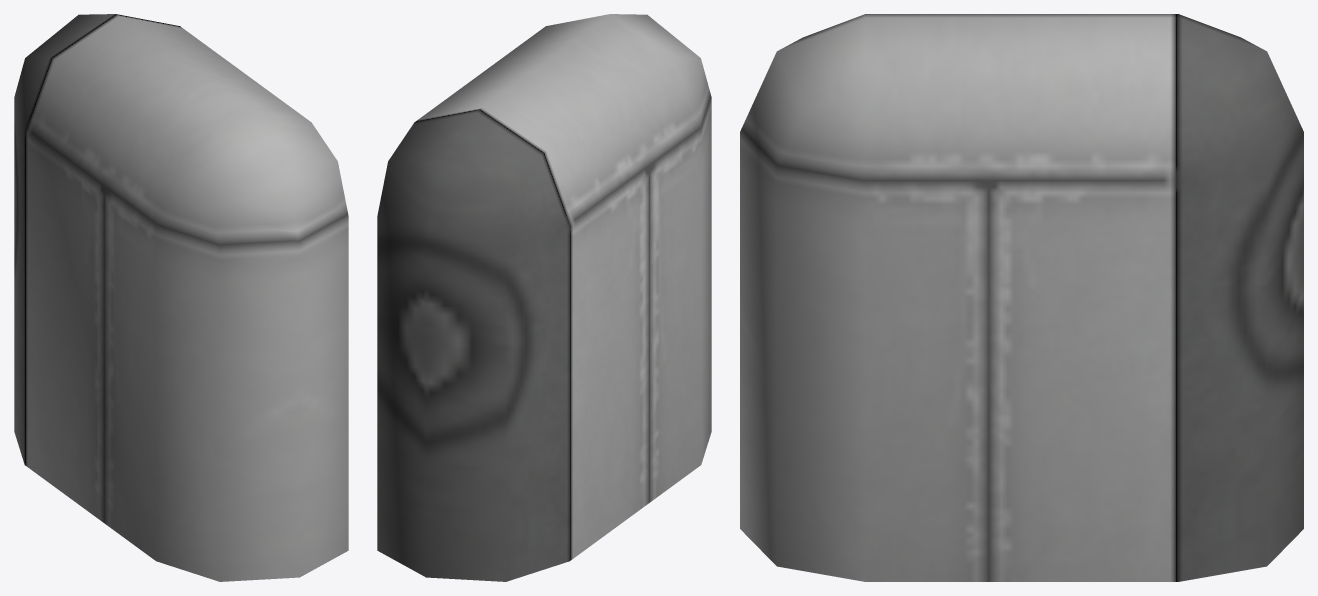
File: blue_steel_landing_gear_srf_1_base.obj
The picture shows the model from 3 angles, left to right: view 1: azimuth 30°, elevation 25°; view 2: azimuth 150°, elevation 25°; view 3: azimuth 270°, elevation 25°; orthographic projection. The views are drawn at different scales.
Parts seen in each view (by area): view 1: base1; view 2: base1; view 3: base1.
Part boxes in pixels (<box>): base1: <box>14,14,348,581</box>; base1: <box>377,14,711,581</box>; base1: <box>740,14,1303,581</box>.
Bounding box in the file's own units: 0.2 × 0.45 × 0.45.
